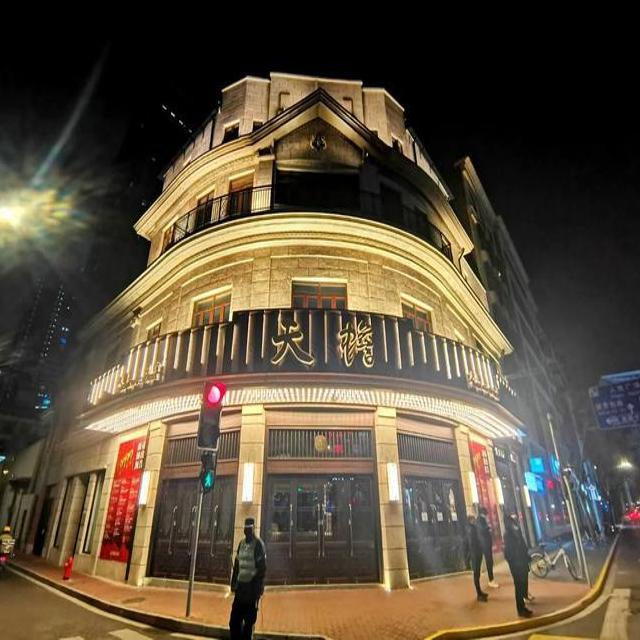curb: (424, 540, 618, 639), (16, 567, 219, 637), (270, 633, 324, 639)
